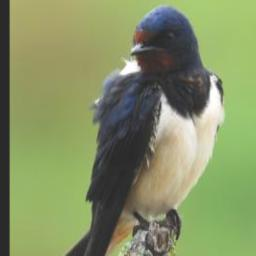Swallow: (46, 3, 226, 256)
